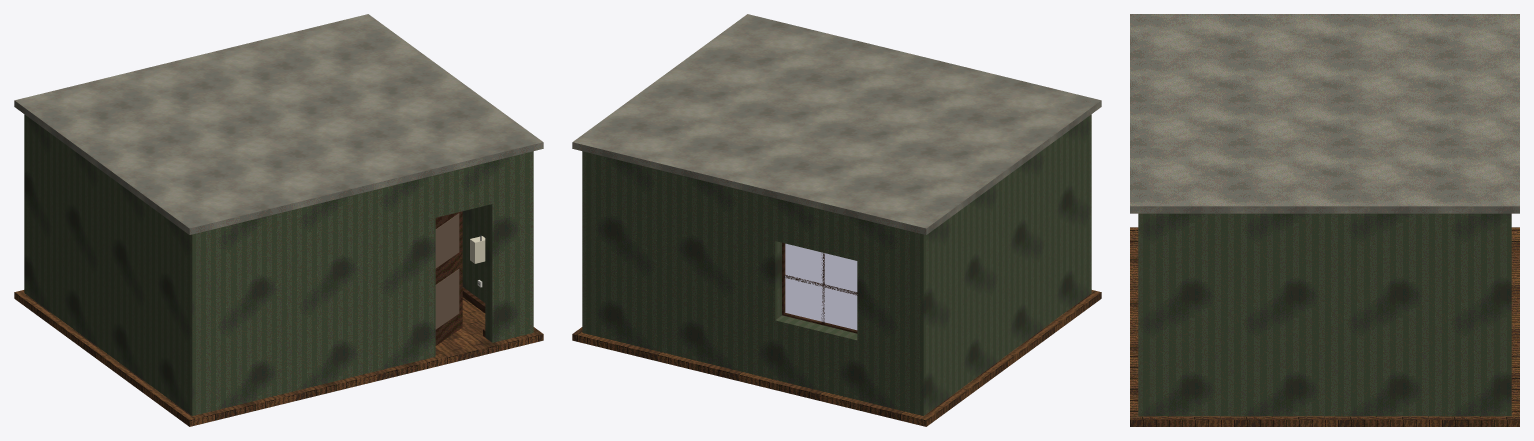
File: ep_apt_boris.glb
3 views of the same model, side by side, from view 1: azimuth 30°, elevation 25°; view 2: azimuth 150°, elevation 25°; view 3: azimuth 270°, elevation 25° (orthographic). The views are drawn at different scales.
Parts seen in each view (by area): view 1: wallpaper-col, plaster-col, parquet-col, flat, wood_dark; view 2: wallpaper-col, plaster-col, parquet-col, flat.002, wood_dark; view 3: plaster-col, wallpaper-col, parquet-col.
Part boxes in pixels (box(x1,y1,x2,y2)): wallpaper-col: box(24, 114, 533, 415); plaster-col: box(14, 14, 543, 234); parquet-col: box(14, 290, 543, 426); flat: box(435, 213, 459, 329); wood_dark: box(435, 211, 485, 345); wallpaper-col: box(582, 114, 1091, 415); plaster-col: box(572, 14, 1101, 234); parquet-col: box(572, 290, 1101, 426); flat.002: box(785, 243, 857, 330); wood_dark: box(782, 242, 857, 333); plaster-col: box(1130, 14, 1519, 213); wallpaper-col: box(1138, 213, 1511, 416); parquet-col: box(1130, 227, 1519, 426).
Bounding box in the file's own units: 5.6 × 3 × 4.8.
Materials: 39 (10 with a texture image).
